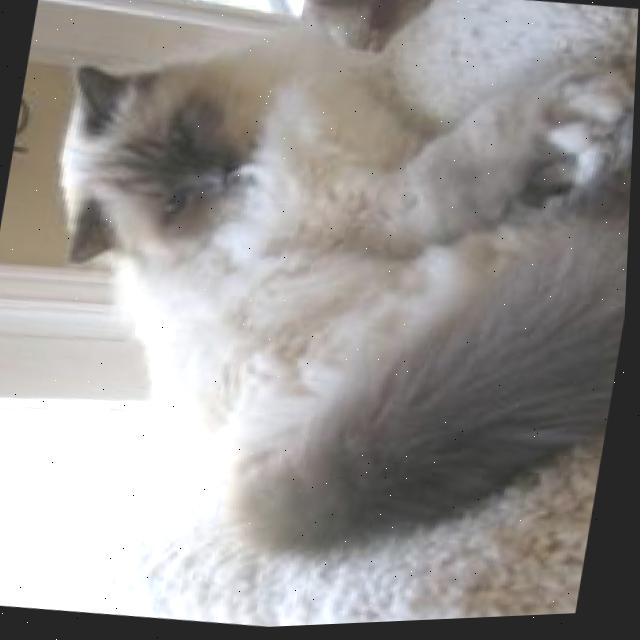Birman: (0, 0, 640, 608)
